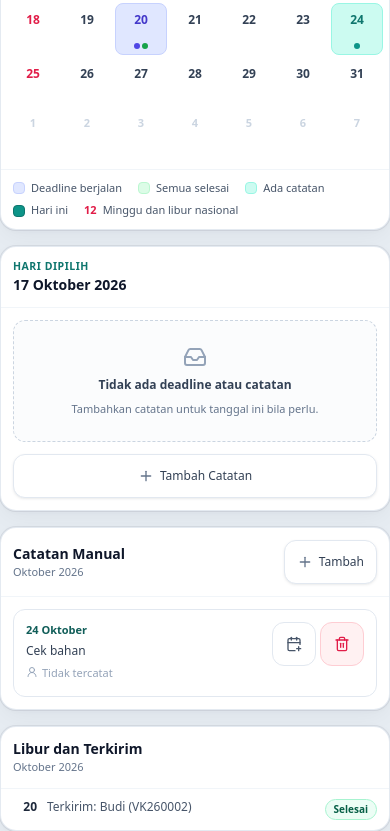
it: ProductionCalendar on a phone › starts on today and offers adding a note for it
This screenshot has width=390, height=831.
(page scrolled)
Expected: the heading "17 Oktober 2026" is shown, [13, 275, 126, 294]
Click the button "Tambah Catatan": click(195, 476) [13, 454, 377, 498]
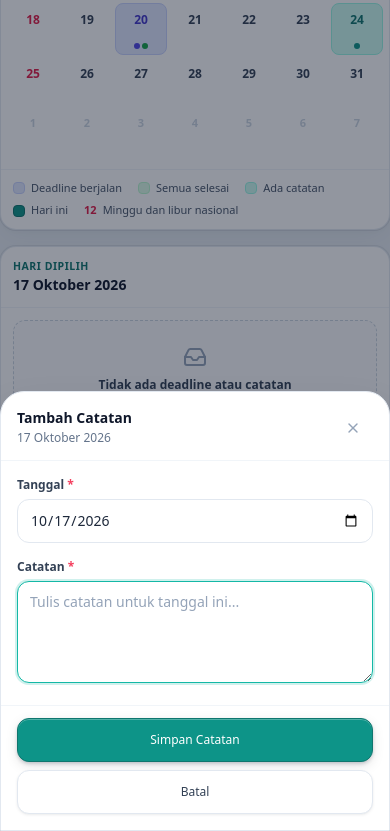
Expected: the dialog is shown, [0, 391, 389, 830]
Expected: the date field labelled "Tanggal *" holds "2026-10-17", [17, 499, 373, 543]
